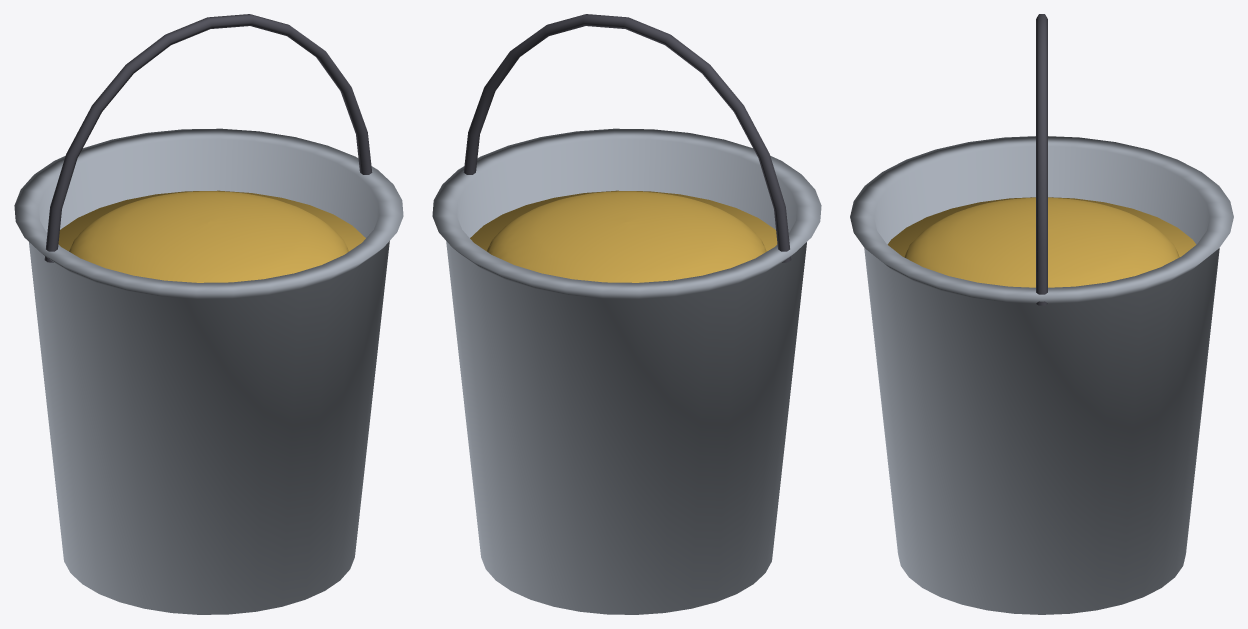
The model's file is feed_bucket.glb.
3 views of the same model, side by side, from view 1: azimuth 30°, elevation 25°; view 2: azimuth 150°, elevation 25°; view 3: azimuth 270°, elevation 25° (orthographic).
Parts seen in each view (by area): view 1: feed_bucket; view 2: feed_bucket; view 3: feed_bucket.
Boxes of the visible parts, box(x1,y1,x2,y2) form: feed_bucket: box(14, 14, 403, 614); feed_bucket: box(432, 14, 821, 614); feed_bucket: box(850, 14, 1233, 614).
Size of the model in its own units: 0.32 by 0.4843 by 0.32.
